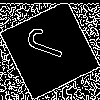J: (25, 25, 76, 64)
